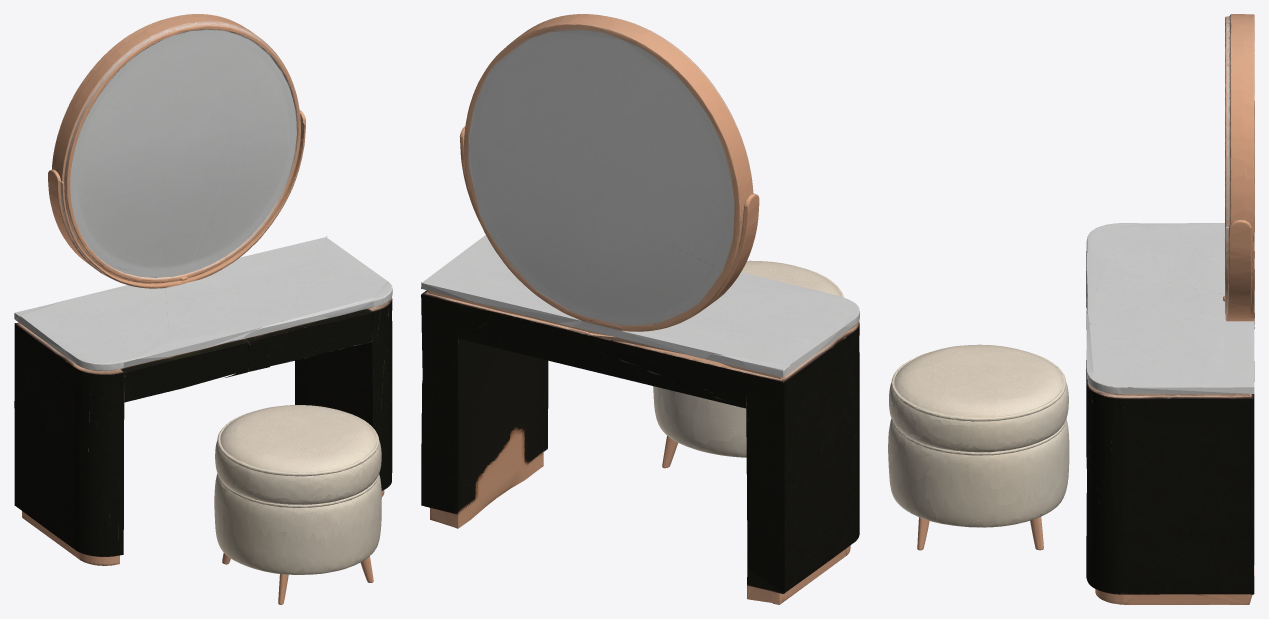
The picture shows the model from 3 angles, left to right: view 1: azimuth 30°, elevation 25°; view 2: azimuth 150°, elevation 25°; view 3: azimuth 270°, elevation 25°; orthographic projection. The views are drawn at different scales.
Visible parts, largest first — view 1: Mesh_0; view 2: Mesh_0; view 3: Mesh_0.
Boxes of the visible parts, left/top/right/bottom form: Mesh_0: left=14, top=14, right=392, bottom=604; Mesh_0: left=421, top=14, right=859, bottom=604; Mesh_0: left=888, top=14, right=1254, bottom=604.
Size of the model in its own units: 1.35 by 1.9 by 1.27.
Materials: 1 (1 with a texture image).
